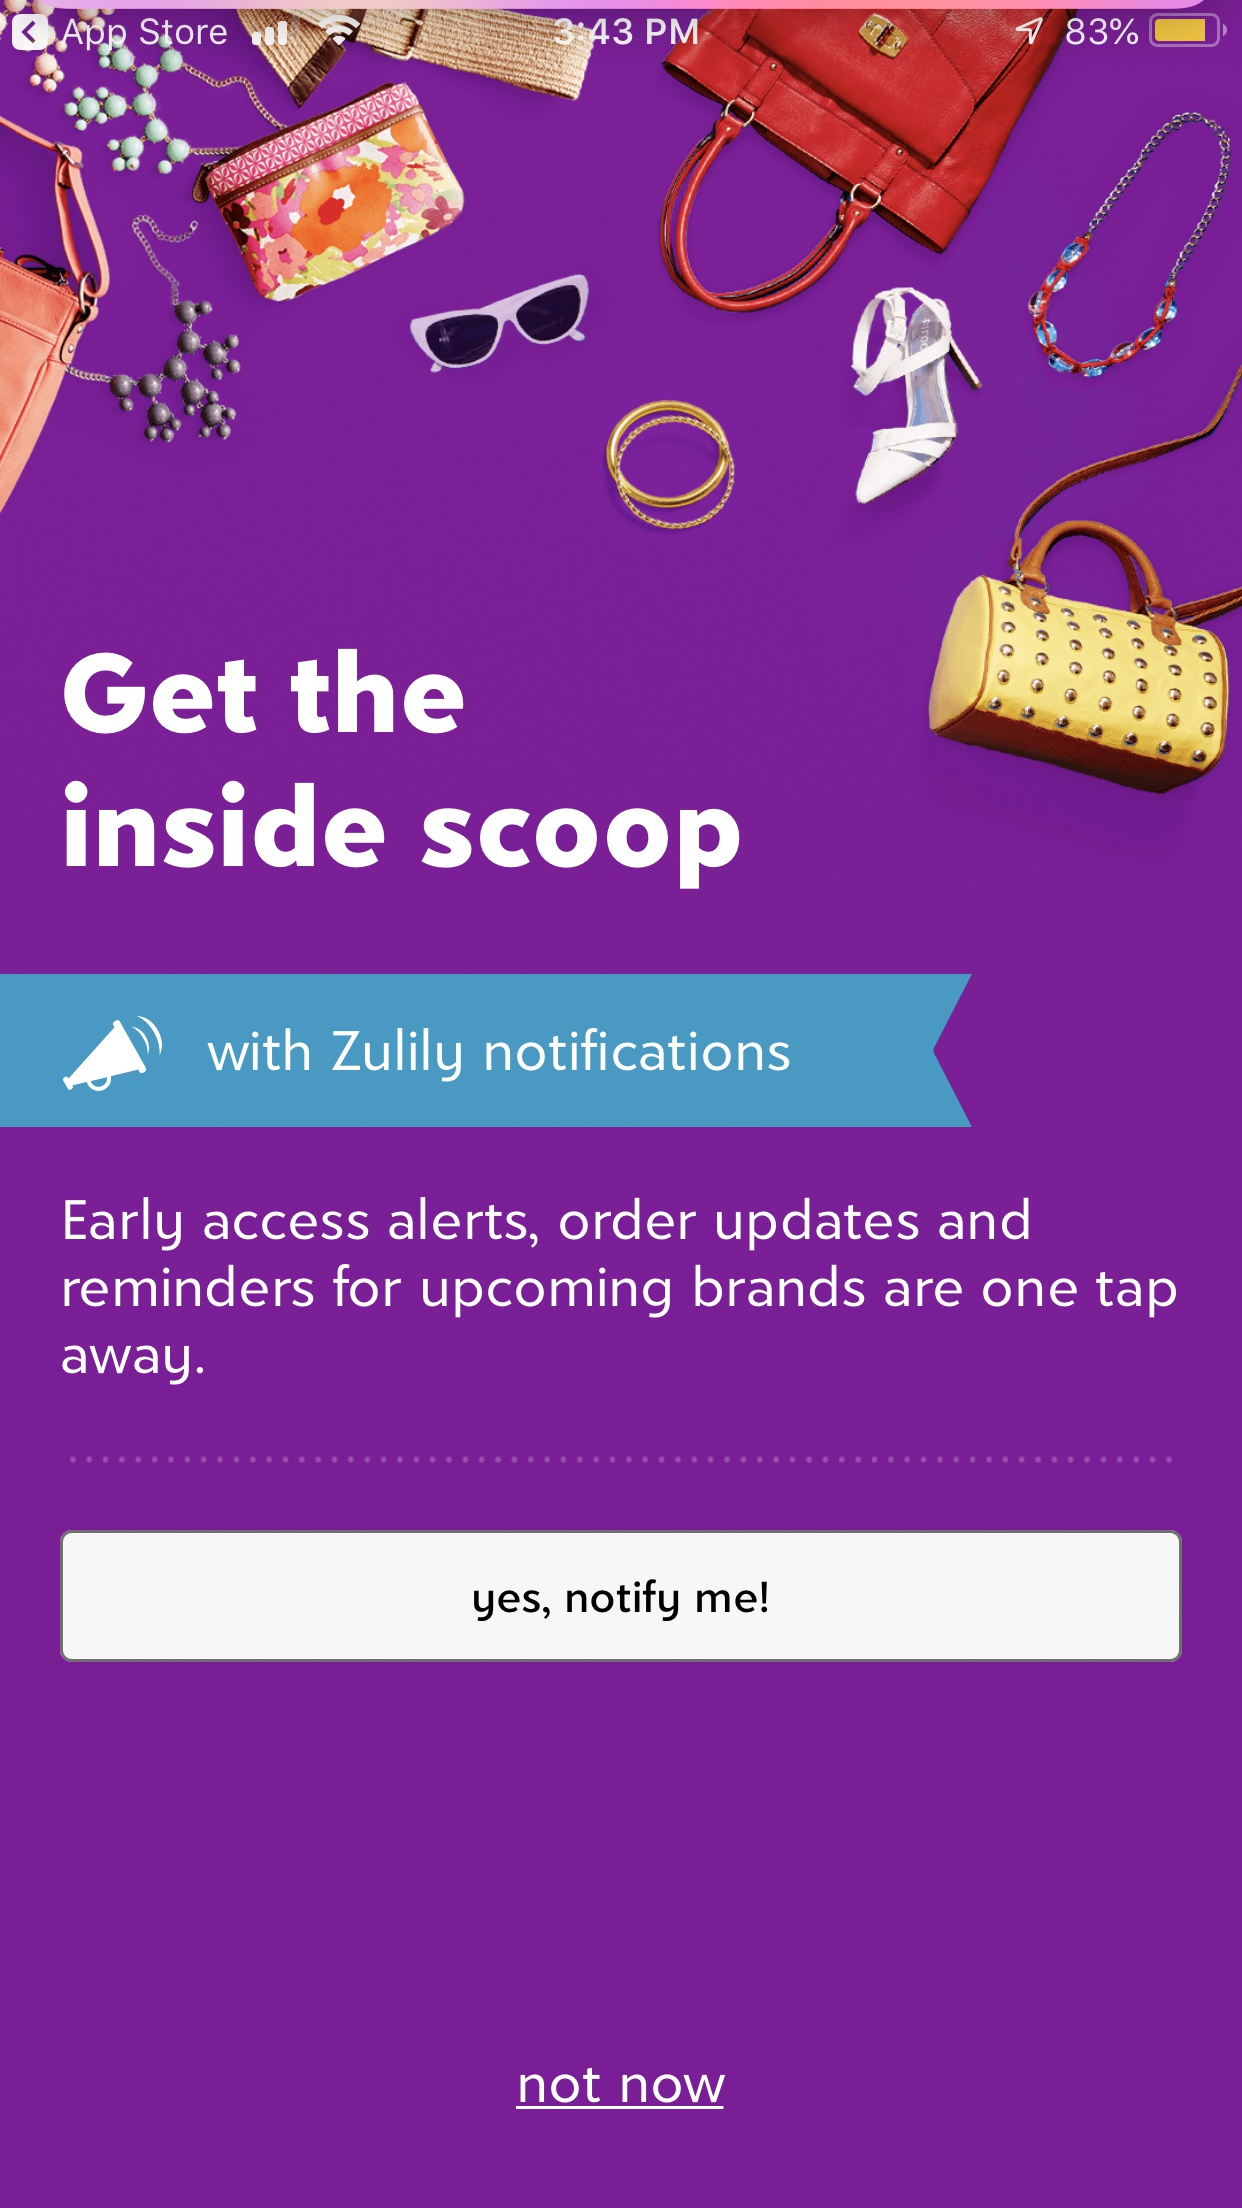BackgroundImage: (2, 2, 1242, 2208)
Image: (64, 1015, 164, 1093)
Text: (61, 1197, 1177, 1386), (64, 649, 742, 892), (208, 1031, 790, 1084), (516, 2067, 726, 2109)
TextButton: (61, 1530, 1183, 1664)
UpperTaskBar: (2, 2, 1242, 52)
